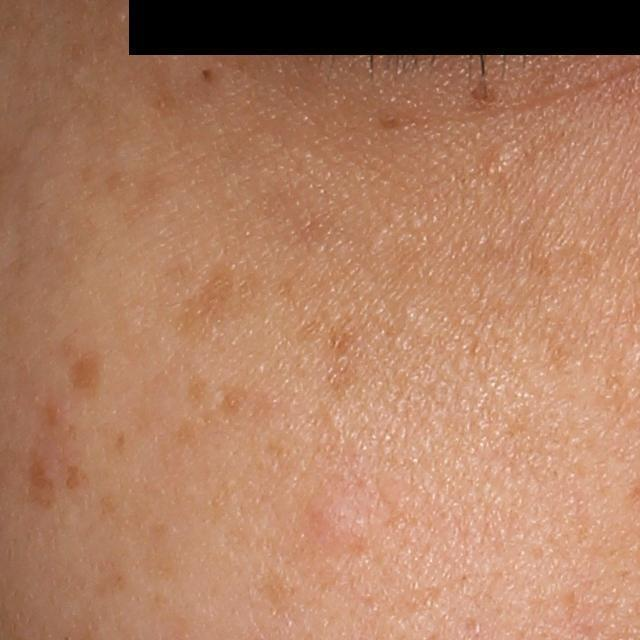comedo: (487, 147, 517, 174)
melasma: (168, 264, 258, 352), (62, 349, 100, 406), (22, 448, 58, 507), (218, 382, 247, 418), (182, 375, 208, 408), (469, 72, 493, 105), (377, 107, 404, 129)
nevus: (200, 67, 213, 81)
papule: (303, 492, 366, 555)
